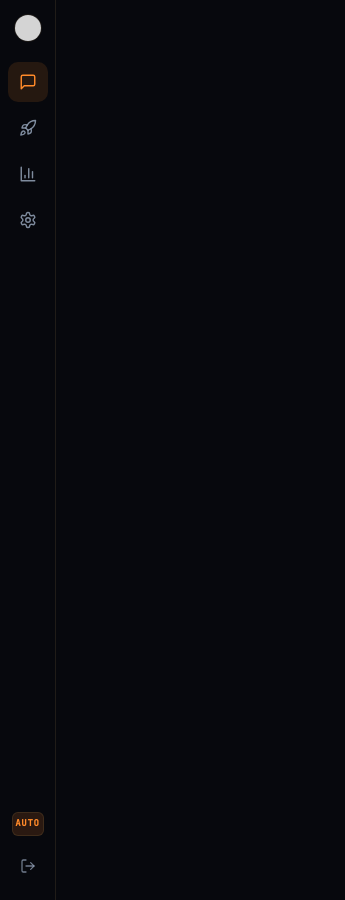
RailShell — Phase 1 team-management nav visibility › shows the Team nav item once /team/me confirms owner/admin access
Click the button with test id "rail-icon-settings" at (28, 220), box [8,200,48,240]
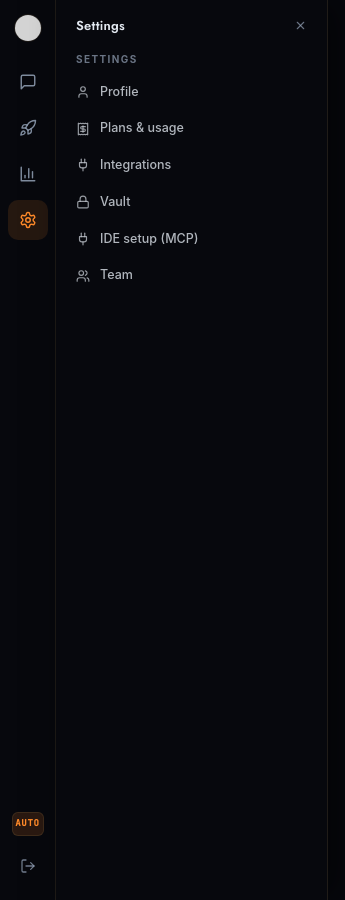
Expected: the link with test id "nav-team" is shown, [76,267,133,283]
